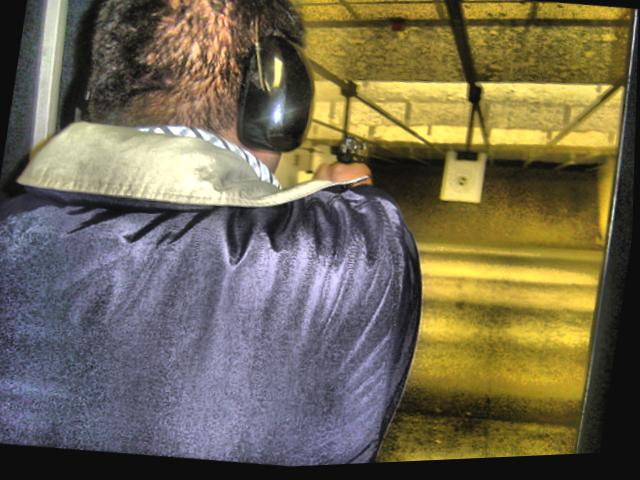pistol: (326, 134, 363, 165)
